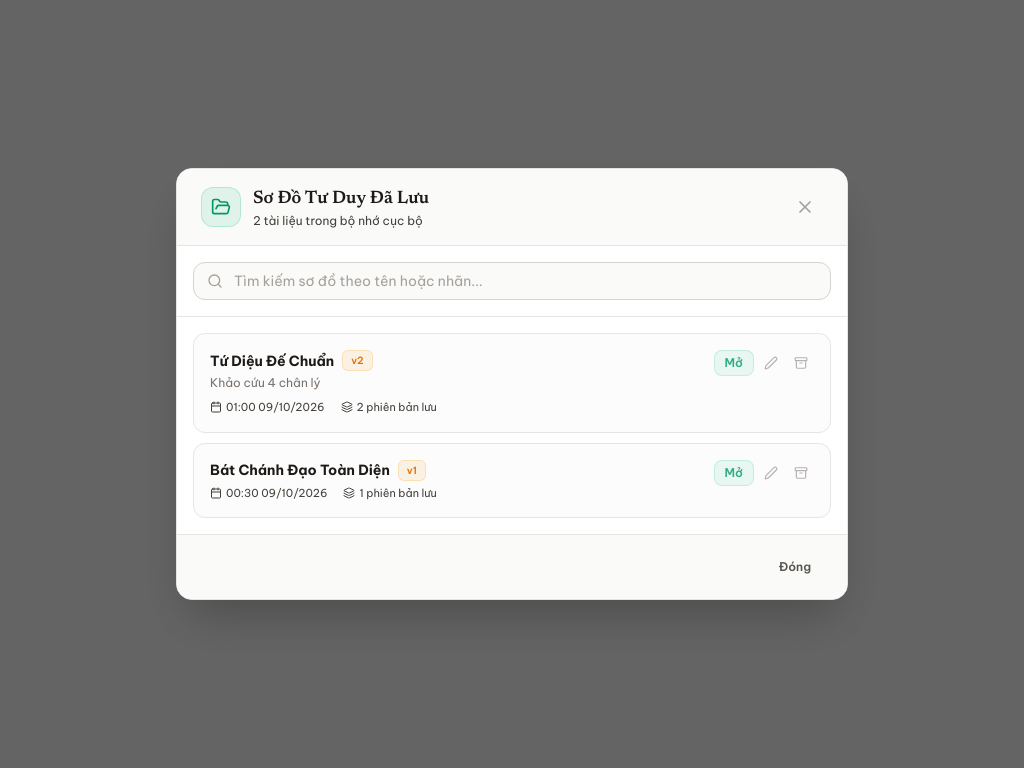
it: Mind Map Persistence UI Modals (Phase P1) › MindMapDocumentBrowserModal › filters documents dynamically via search input
This screenshot has width=1024, height=768.
In the field with test id "input-search-saved-docs": (512, 281) [193,262,831,300], type "Bát Chánh"
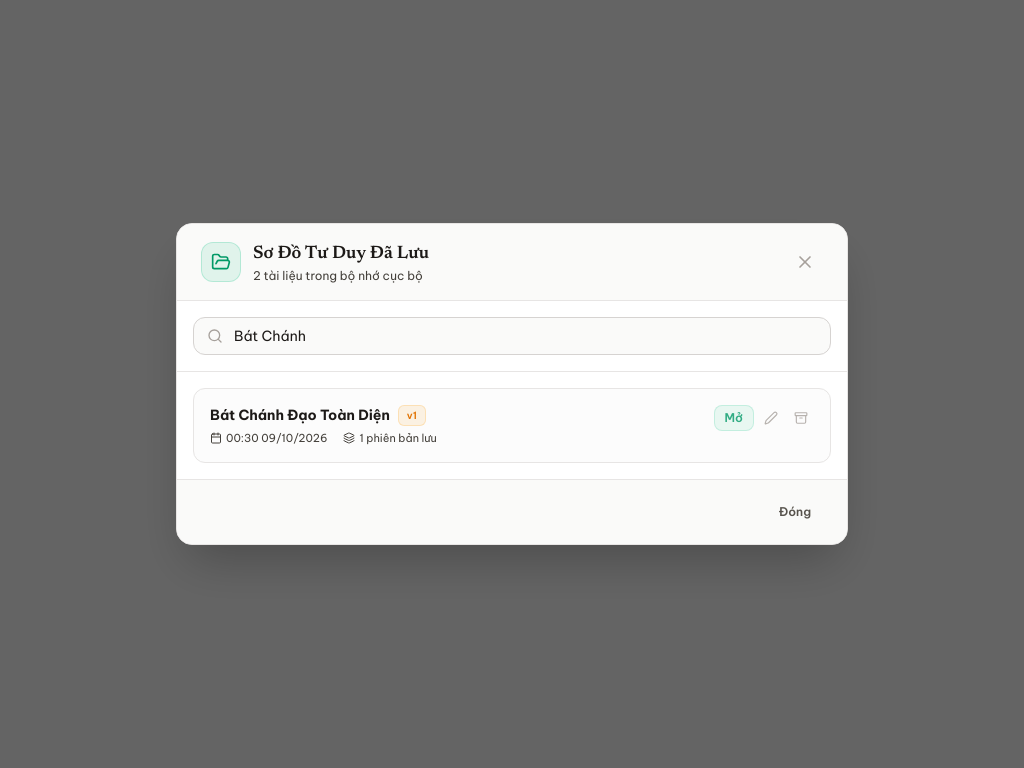
Expected: the heading "Bát Chánh Đạo Toàn Diện" is shown, [210,405,390,425]
Result: the heading "Tứ Diệu Đế Chuẩn" is gone
